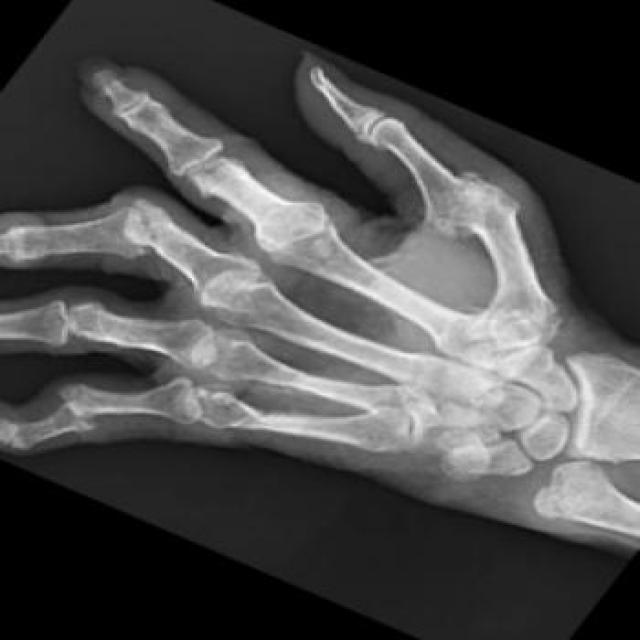Fracture: (117, 188, 167, 264), (51, 377, 97, 444)
